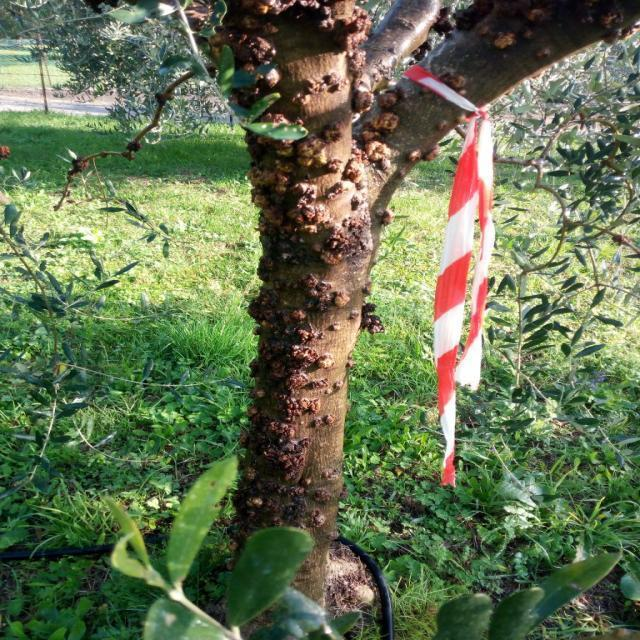Tuberculosis: (230, 288, 342, 536), (248, 142, 344, 266), (230, 0, 372, 71), (322, 208, 370, 263), (289, 274, 351, 314), (290, 72, 348, 108), (297, 138, 346, 178), (232, 36, 276, 72), (342, 144, 368, 186), (363, 140, 390, 172), (368, 112, 400, 137), (361, 302, 384, 334), (378, 85, 404, 112), (352, 88, 371, 115), (321, 125, 344, 144), (378, 208, 395, 230), (310, 509, 327, 528), (422, 144, 439, 162), (315, 488, 333, 504), (322, 468, 340, 482)
